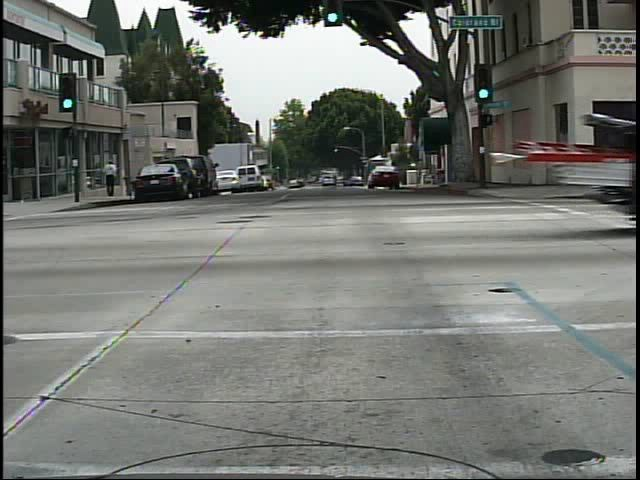person: (451, 142, 479, 197), (99, 153, 125, 201)
